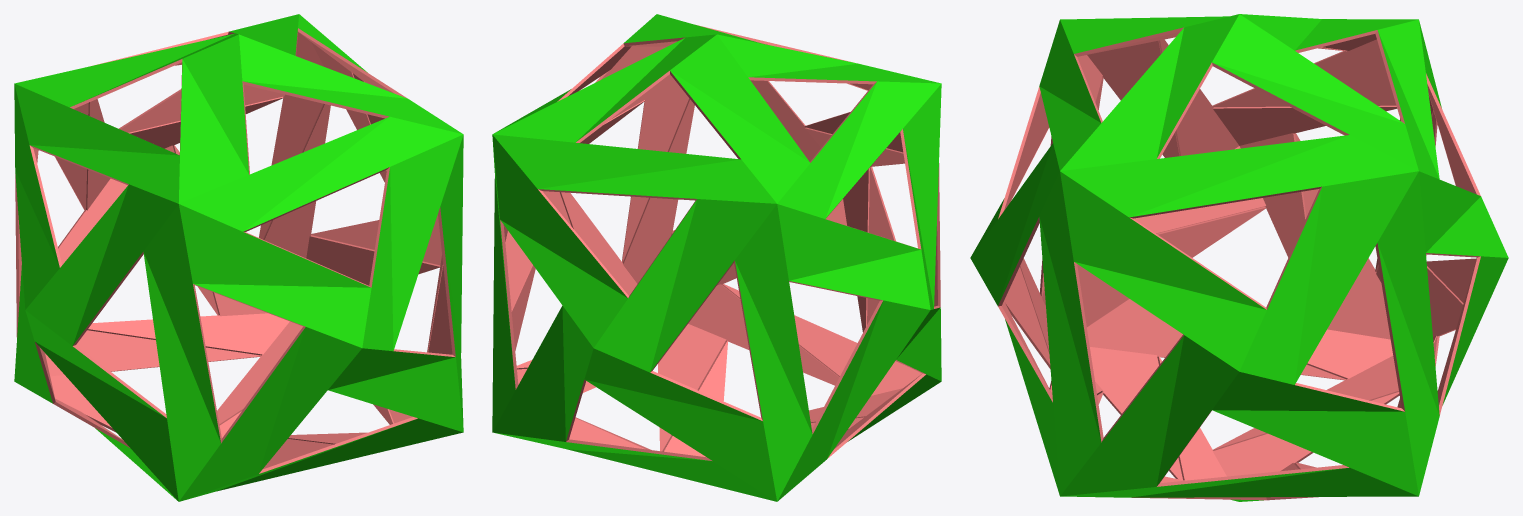
File: TetrakisHexahedron.glb
3 views of the same model, side by side, from view 1: azimuth 30°, elevation 25°; view 2: azimuth 150°, elevation 25°; view 3: azimuth 270°, elevation 25° (orthographic). The views are drawn at different scales.
Parts seen in each view (by area): view 1: root; view 2: root; view 3: root.
Boxes of the visible parts, <box> form: root: <box>14,14,463,501</box>; root: <box>492,14,941,501</box>; root: <box>970,14,1508,501</box>.
Bounding box in the file's own units: 7.94 × 7.94 × 7.94.
